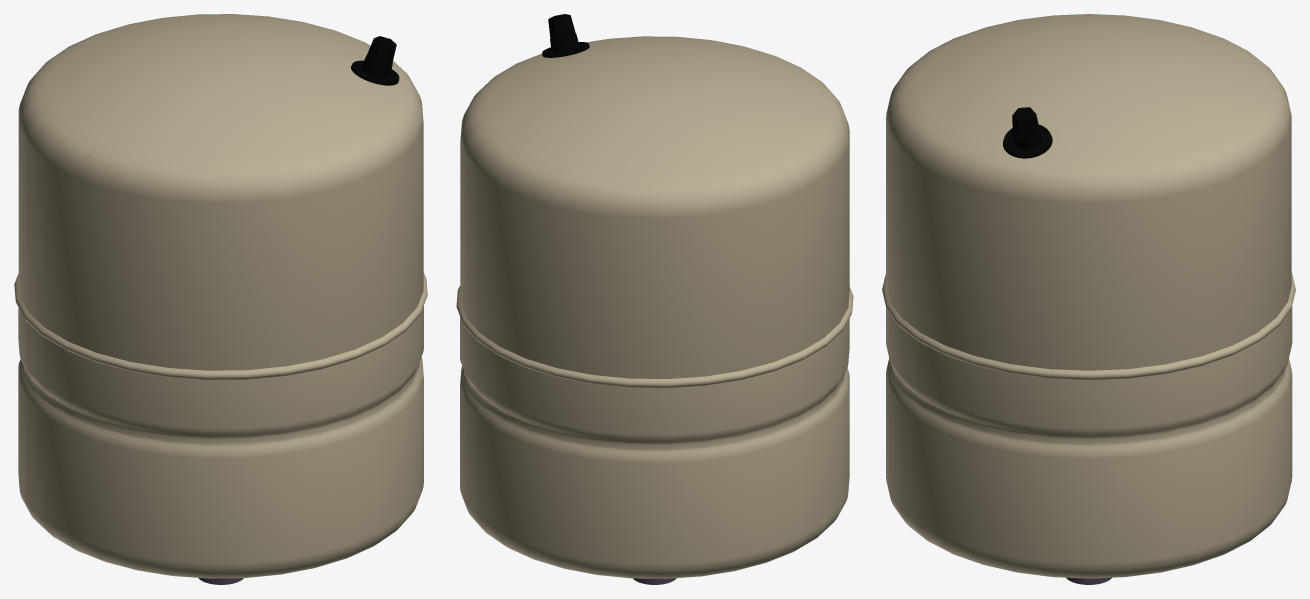
The model's file is 19lt-sabit-tank-dikey.obj.
3 renders of one model, left to right at view 1: azimuth 30°, elevation 25°; view 2: azimuth 150°, elevation 25°; view 3: azimuth 270°, elevation 25°, orthographic. The views are drawn at different scales.
Parts seen in each view (by area): view 1: 19lt-sabit-dikey-tank.008, 19lt-sabit-dikey-tank.002, 19lt-sabit-dikey-tank.005, 19lt-sabit-dikey-tank.001; view 2: 19lt-sabit-dikey-tank.008, 19lt-sabit-dikey-tank.002, 19lt-sabit-dikey-tank.005, 19lt-sabit-dikey-tank.001; view 3: 19lt-sabit-dikey-tank.008, 19lt-sabit-dikey-tank.002, 19lt-sabit-dikey-tank.005, 19lt-sabit-dikey-tank.001.
Part boxes in pixels (x1=…): 19lt-sabit-dikey-tank.008: x1=18, y1=14, x2=423, y2=370; 19lt-sabit-dikey-tank.002: x1=18, y1=306, x2=423, y2=578; 19lt-sabit-dikey-tank.005: x1=14, y1=273, x2=427, y2=380; 19lt-sabit-dikey-tank.001: x1=351, y1=36, x2=399, y2=85; 19lt-sabit-dikey-tank.008: x1=460, y1=36, x2=849, y2=378; 19lt-sabit-dikey-tank.002: x1=460, y1=317, x2=849, y2=578; 19lt-sabit-dikey-tank.005: x1=456, y1=285, x2=853, y2=388; 19lt-sabit-dikey-tank.001: x1=542, y1=14, x2=589, y2=57; 19lt-sabit-dikey-tank.008: x1=886, y1=14, x2=1291, y2=370; 19lt-sabit-dikey-tank.002: x1=886, y1=306, x2=1292, y2=578; 19lt-sabit-dikey-tank.005: x1=882, y1=272, x2=1295, y2=380; 19lt-sabit-dikey-tank.001: x1=1003, y1=107, x2=1052, y2=158.
Bounding box in the file's own units: 17.87 × 25.13 × 17.87.
